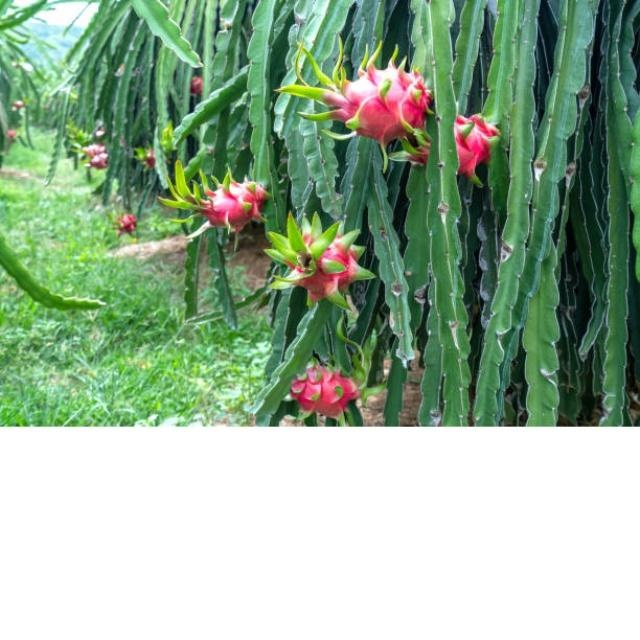thanh_long: (306, 51, 450, 159), (265, 224, 381, 303), (408, 122, 514, 182), (183, 169, 280, 232), (278, 366, 382, 422)
